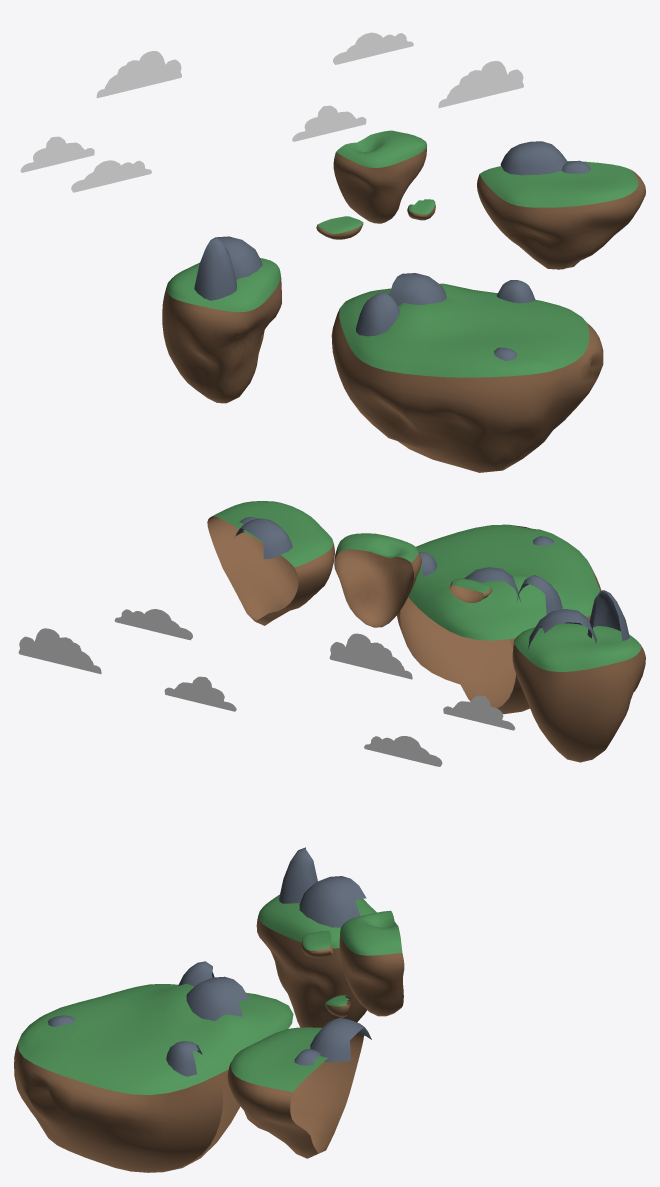
File: floating island.fbx
3 views of the same model, one above another, from view 1: azimuth 30°, elevation 25°; view 2: azimuth 150°, elevation 25°; view 3: azimuth 270°, elevation 25° (orthographic). The views are drawn at different scales.
Parts seen in each view (by area): view 1: Cube.001; view 2: Cube.001; view 3: Cube.001.
Part boxes in pixels (box(x1,y1,x2,y2)): Cube.001: box(20, 32, 645, 472); Cube.001: box(18, 501, 645, 766); Cube.001: box(14, 847, 404, 1172).
Size of the model in its own units: 52.8 by 25.83 by 51.69.
